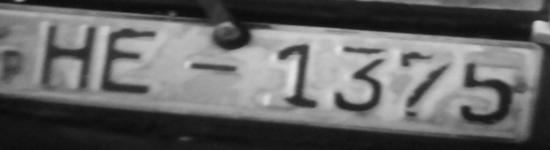-: (172, 56, 248, 85)
1: (260, 39, 322, 114)
3: (323, 40, 393, 116)
5: (456, 52, 524, 132)
7: (392, 44, 454, 123)
E: (100, 23, 162, 99)
H: (32, 19, 98, 94)
P: (0, 44, 26, 89)
